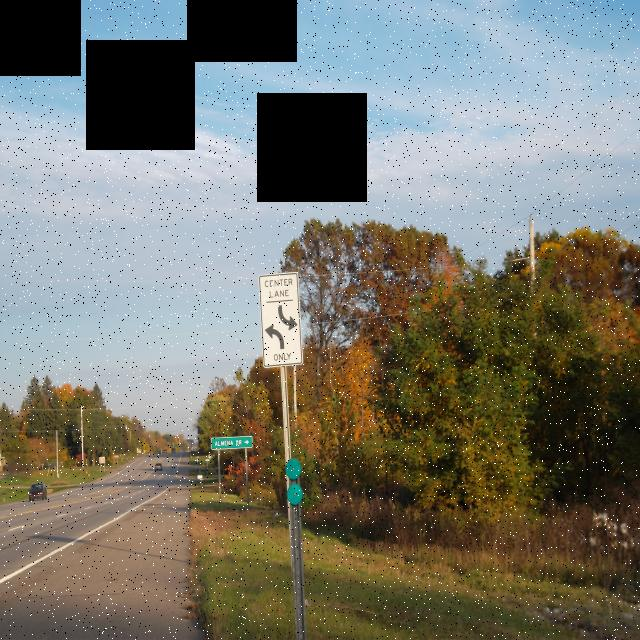regulatory: (259, 268, 304, 370)
